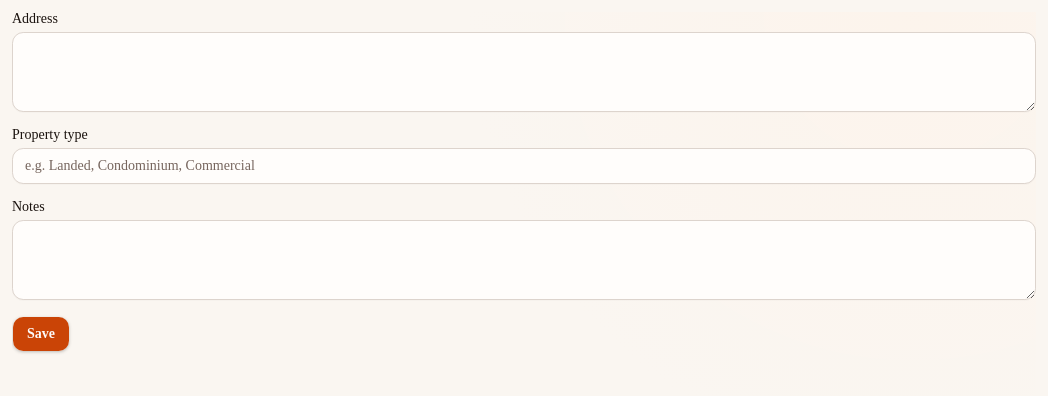
Scenario: PropertyForm › shows a validation error and does not submit when address is empty
This screenshot has width=1048, height=396.
Click the button "Save". click: (41, 334)
box: [12,316,70,352]
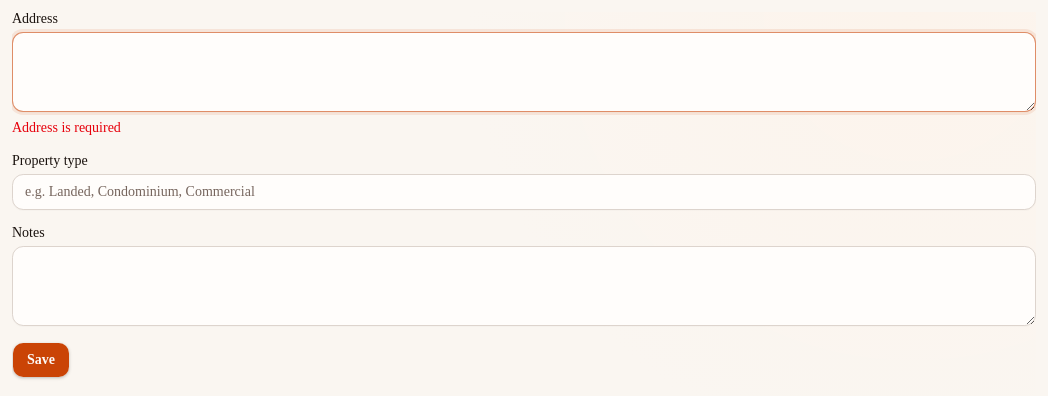
Now the text "Address is required" is shown, box [12,120,121,135]
